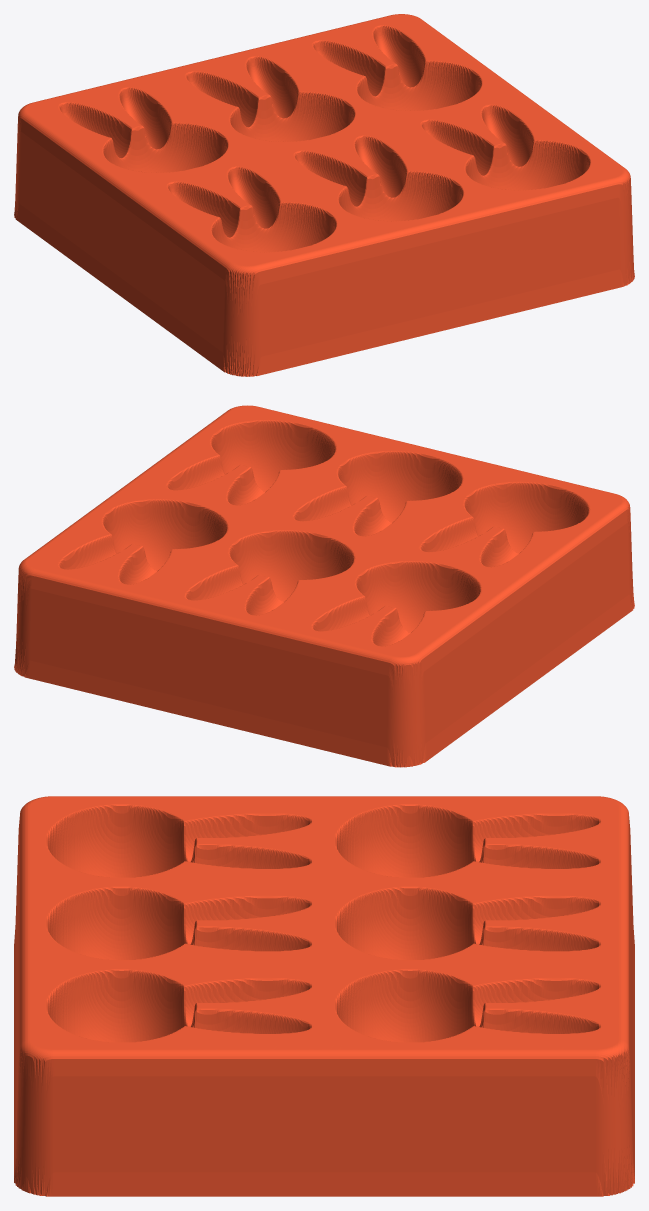
Rendered from mold.glb.
3 views of the same model, one above another, from view 1: azimuth 30°, elevation 25°; view 2: azimuth 150°, elevation 25°; view 3: azimuth 270°, elevation 25° (orthographic). The views are drawn at different scales.
Parts seen in each view (by area): view 1: geometry_0; view 2: geometry_0; view 3: geometry_0.
Boxes of the visible parts, box(x1,y1,x2,y2) form: geometry_0: box(14, 14, 634, 376); geometry_0: box(14, 405, 634, 767); geometry_0: box(14, 796, 634, 1196).
Size of the model in its own units: 0.1459 by 0.036 by 0.1441.
